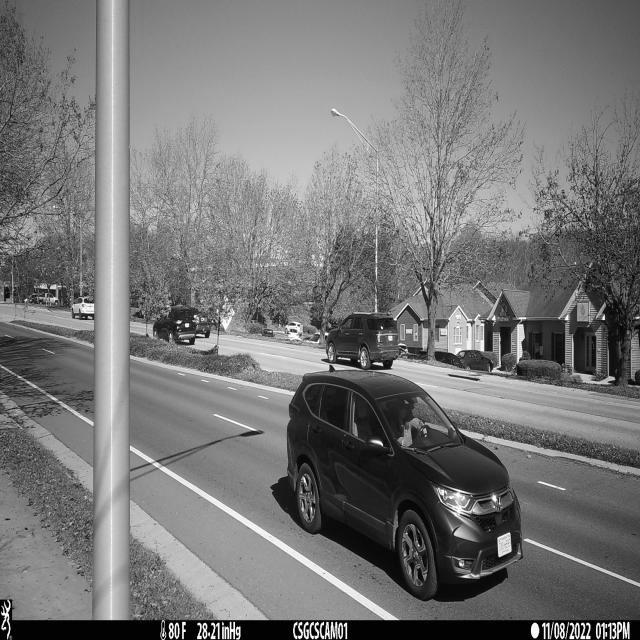SUV: (287, 371, 523, 602)
